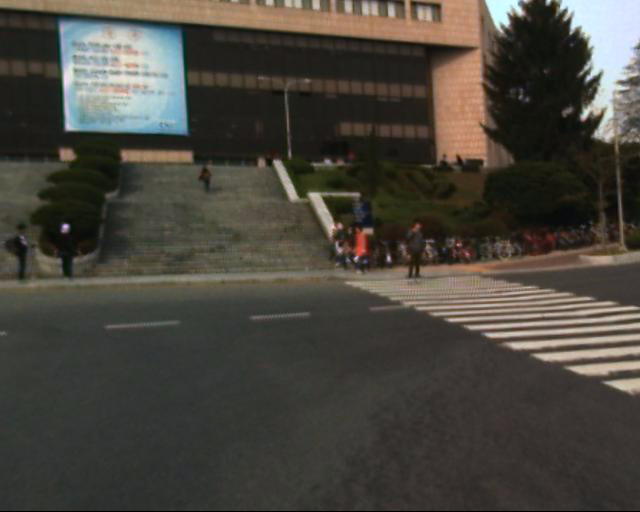person: (329, 215, 376, 279), (190, 154, 226, 212), (52, 221, 77, 283), (403, 217, 426, 284), (329, 222, 353, 279)
